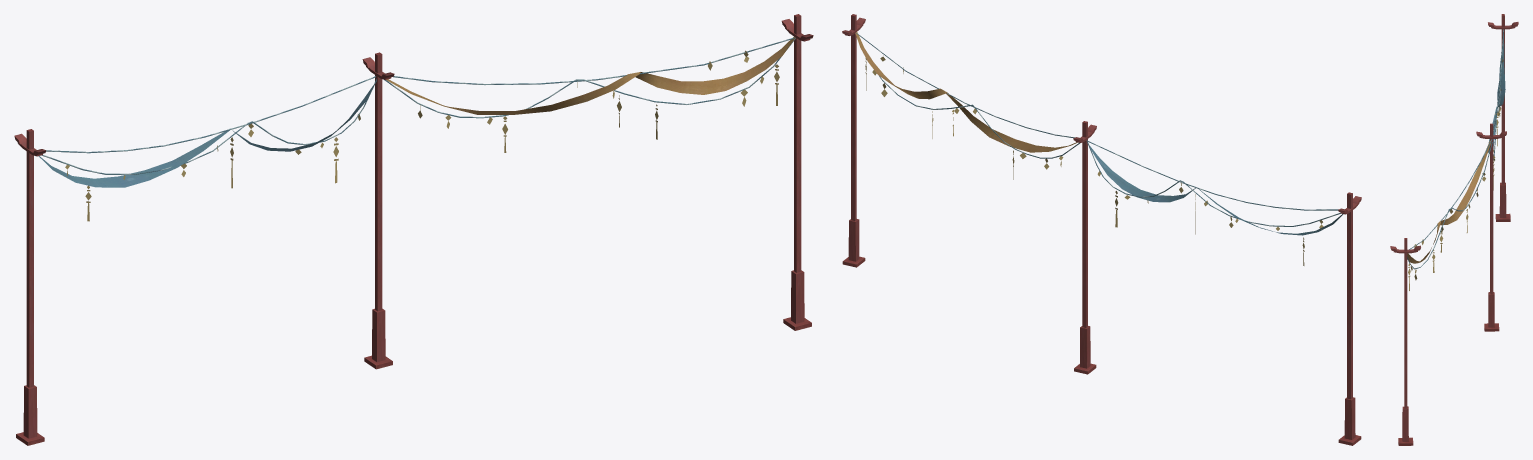
File: Homeworld_Exterior_Ly_Decoration_Build_LanternRiteRibbon_01_Lod0.fbx
The picture shows the model from 3 angles, left to right: view 1: azimuth 30°, elevation 25°; view 2: azimuth 150°, elevation 25°; view 3: azimuth 270°, elevation 25°; orthographic projection. The views are drawn at different scales.
Visible parts, largest first — view 1: Area_Ly_Prop_LYG_Common_Shelf_12_Lod0; view 2: Area_Ly_Prop_LYG_Common_Shelf_12_Lod0; view 3: Area_Ly_Prop_LYG_Common_Shelf_12_Lod0.
Boxes of the visible parts, bbox=[...] form: Area_Ly_Prop_LYG_Common_Shelf_12_Lod0: bbox=[14, 14, 813, 445]; Area_Ly_Prop_LYG_Common_Shelf_12_Lod0: bbox=[842, 14, 1361, 445]; Area_Ly_Prop_LYG_Common_Shelf_12_Lod0: bbox=[1390, 14, 1518, 445].
Bounding box in the file's own units: 17.66 × 7.35 × 4.17.
